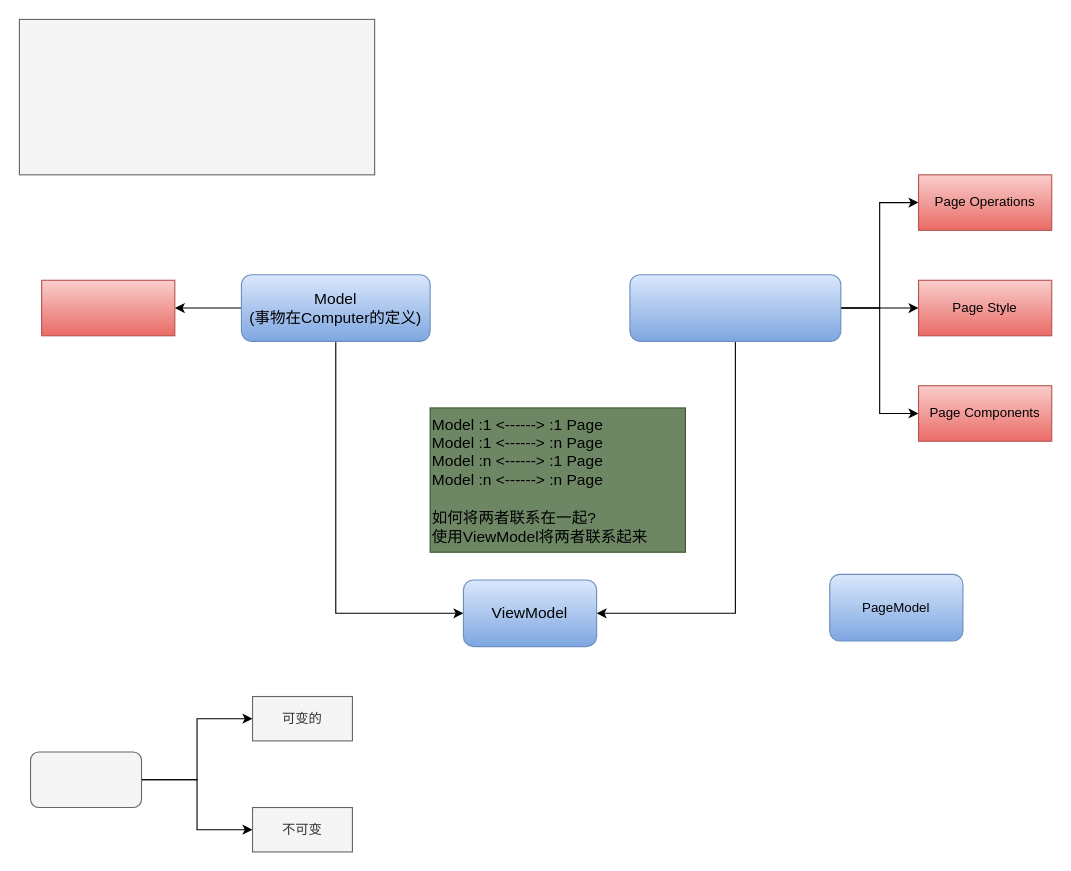
Image size: 1071x871. Some labels were removed from this diagram. The shapes that lost their labels are listed below. From the top down, each one's box as (x1, y1, x2, y2) in pixels, then its label:
(18, 18, 375, 175): 根据编程原则：基于模型 Model: 事物的定义 ViewModel: 事物在页面显示的定义 Page(React Component): 页面结构
(41, 279, 175, 336): Model Operations
(629, 274, 841, 341): Page (事物通过Computer表达方式)
(29, 751, 142, 808): Page
